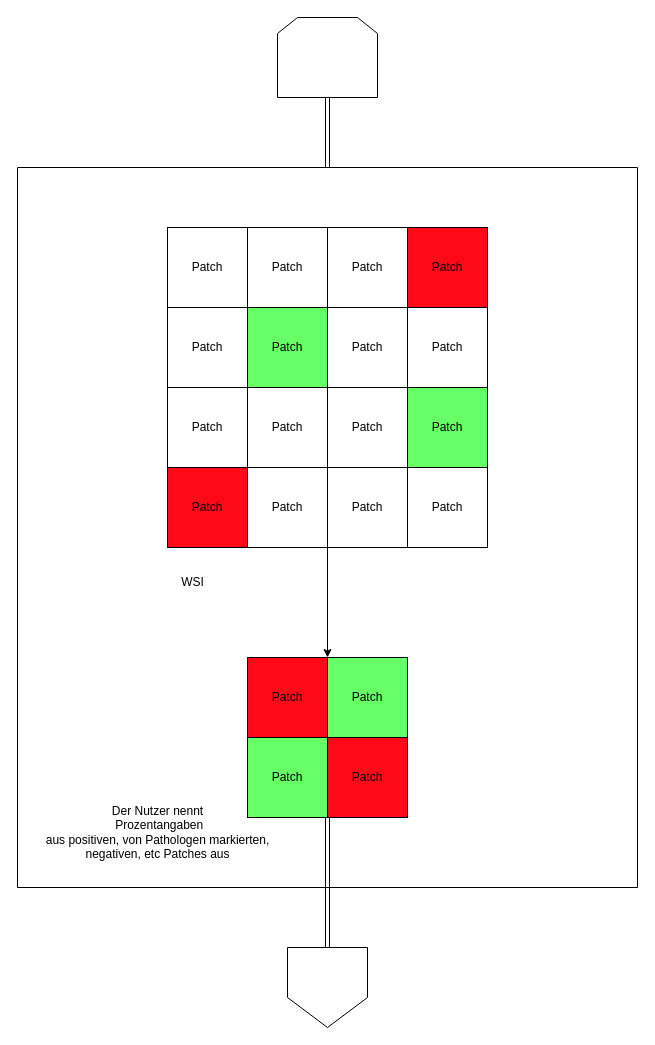
The diagram is 655 pixels wide and 1045 high, and some of its shapes have lost their labels. The box of each missing label's shape, as (x1, y1, x2, y2) in pixels:
mode percentual: (276, 16, 378, 98)
output: (286, 946, 368, 1028)
